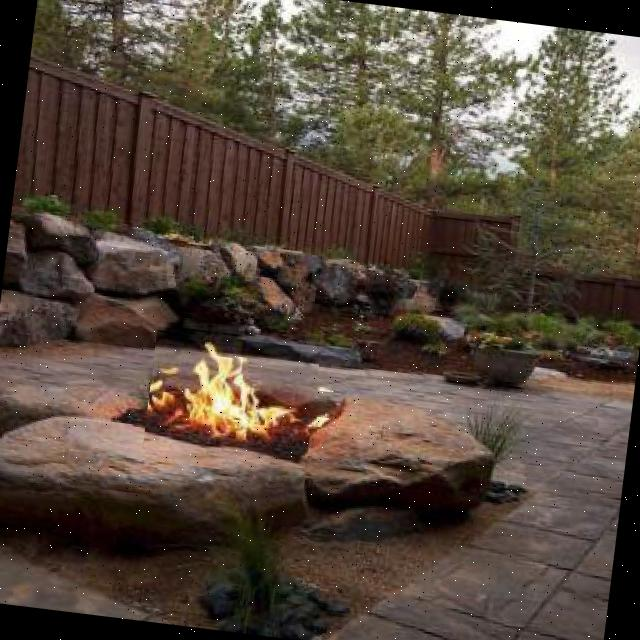fire: (142, 329, 320, 468)
